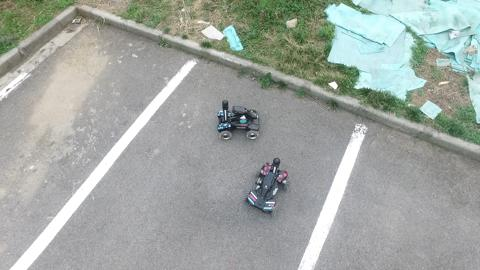chariot: (241, 148, 295, 222), (212, 93, 269, 147)
